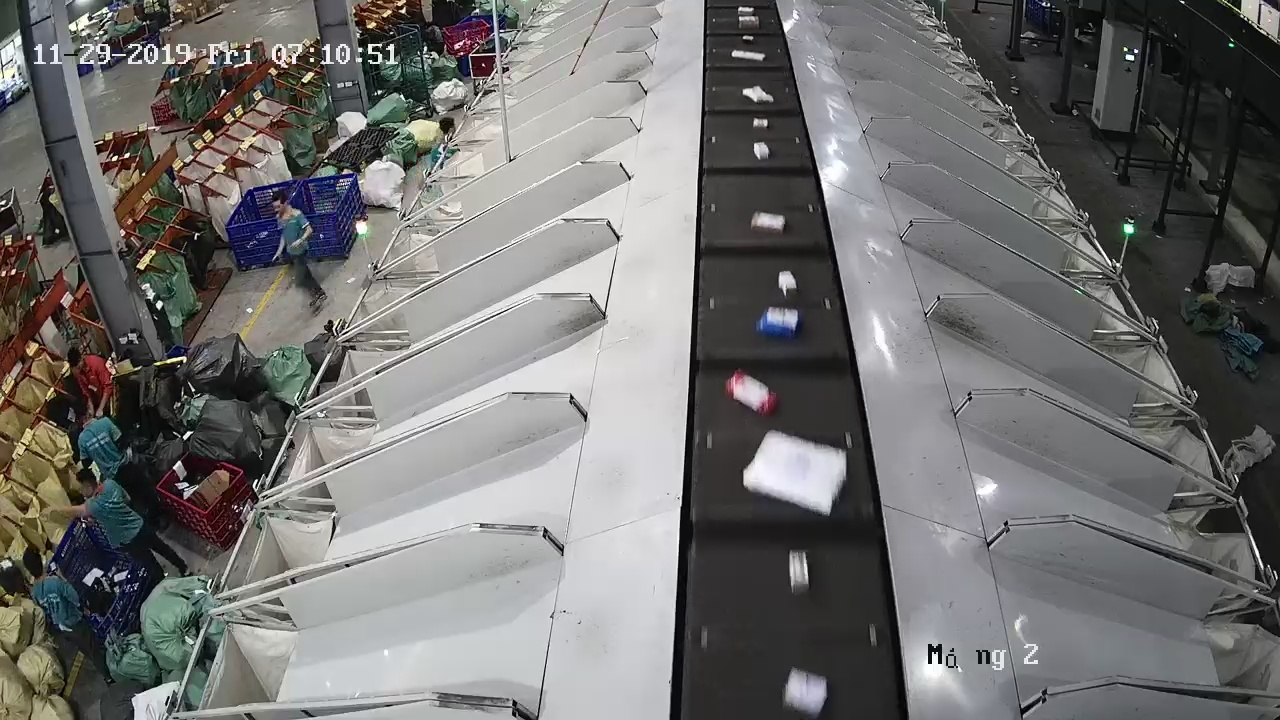parcel: (742, 429, 847, 516), (726, 370, 780, 418), (781, 666, 828, 720), (755, 306, 801, 339), (788, 549, 810, 596), (750, 210, 786, 235), (777, 270, 798, 294), (753, 141, 769, 160)
